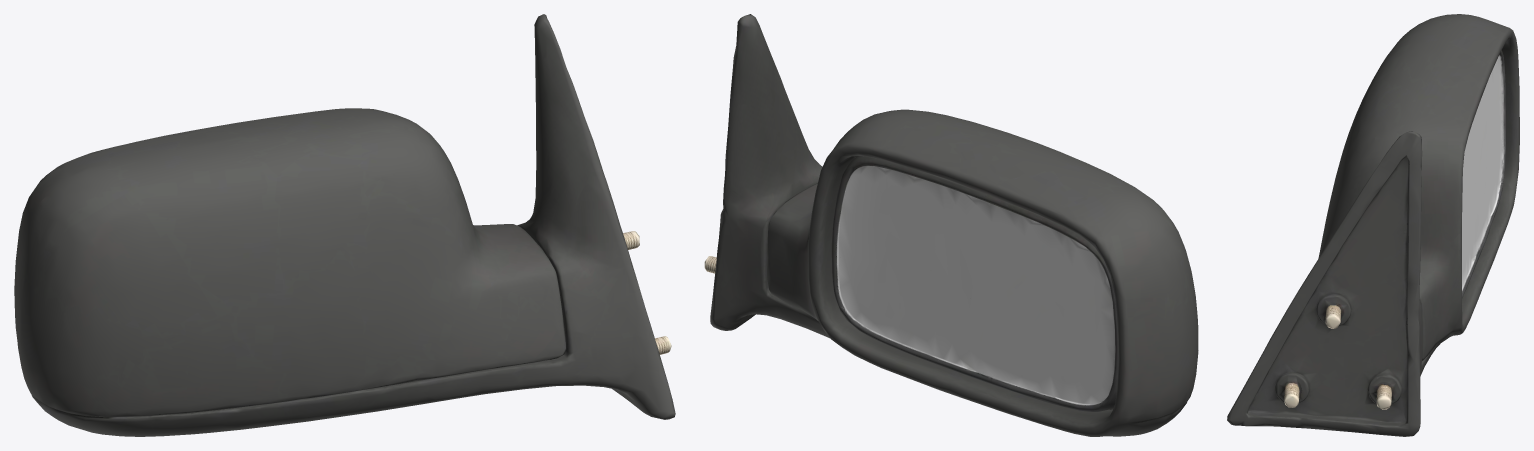
The model's file is outside-rear-view-mirror.glb.
The picture shows the model from 3 angles, left to right: view 1: azimuth 30°, elevation 25°; view 2: azimuth 150°, elevation 25°; view 3: azimuth 270°, elevation 25°; orthographic projection. The views are drawn at different scales.
Parts seen in each view (by area): view 1: tripo_node_e8be827f-fb2c-4cab-93d0-4caa52099428; view 2: tripo_node_e8be827f-fb2c-4cab-93d0-4caa52099428; view 3: tripo_node_e8be827f-fb2c-4cab-93d0-4caa52099428.
Part boxes in pixels (left/top/right/bottom): tripo_node_e8be827f-fb2c-4cab-93d0-4caa52099428: left=14, top=14, right=675, bottom=436; tripo_node_e8be827f-fb2c-4cab-93d0-4caa52099428: left=704, top=14, right=1198, bottom=436; tripo_node_e8be827f-fb2c-4cab-93d0-4caa52099428: left=1227, top=14, right=1519, bottom=436.
Size of the model in its own units: 1 by 0.5944 by 0.5392.
Materials: 1 (1 with a texture image).
